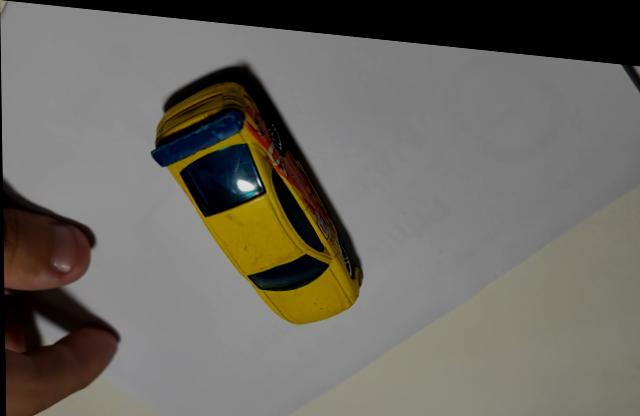02_OZSOME: (150, 76, 363, 318)
